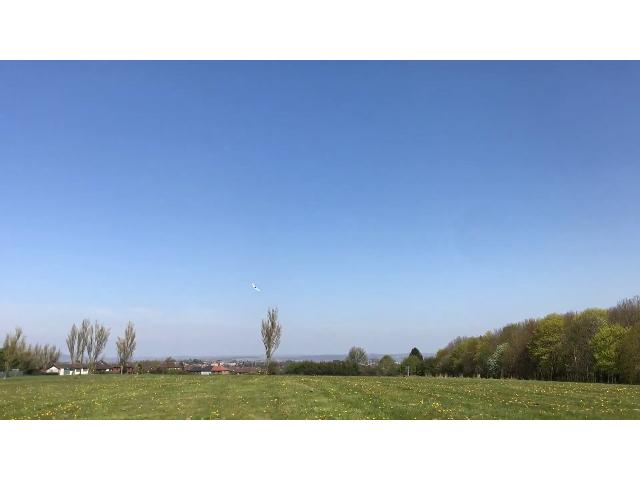Anti-Drone: (242, 277, 268, 293)
